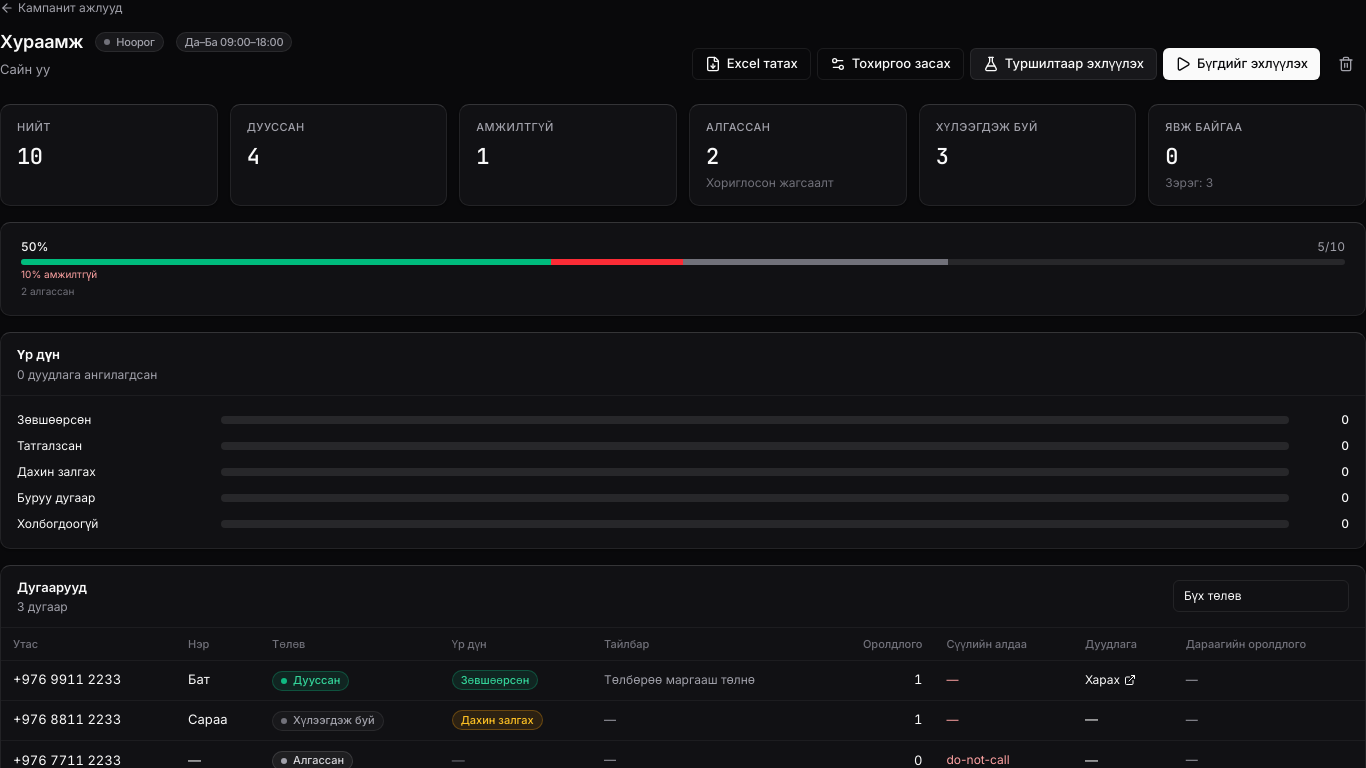
Test: CampaignDetailPage v2 › shows Үр дүн and Тайлбар columns, skipped status and filter option
Expected: the text "Зөвшөөрсөн" in the row of "+976 9911 2233" is shown, top-left (461, 673), bottom-right (529, 687)
Expected: the column heading "Үр дүн" is shown, top-left (440, 628), bottom-right (592, 660)
Select "Алгассан" in the dropdown named "Төлөвөөр шүүх": (1261, 596) top-left (1173, 580), bottom-right (1349, 612)
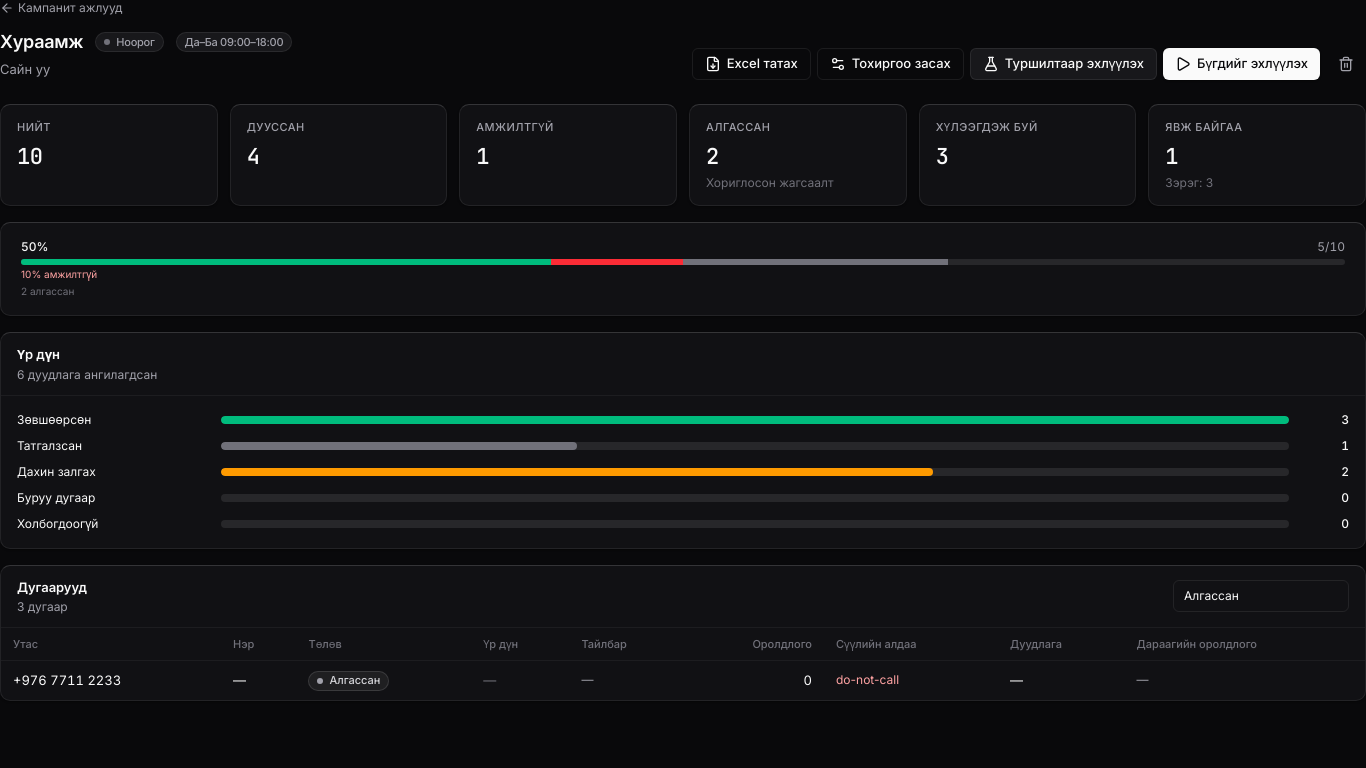
Expected: the text "Бат" is gone
